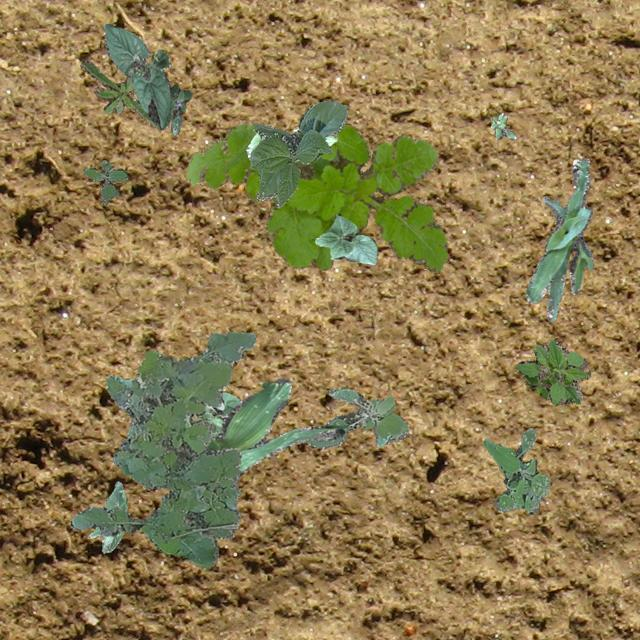crop: (205, 376, 348, 474), (524, 157, 592, 320), (248, 100, 346, 206), (102, 22, 172, 128), (314, 212, 376, 264), (246, 125, 336, 158), (88, 480, 126, 552), (197, 390, 240, 434)
weed: (70, 330, 254, 568), (185, 122, 446, 272), (306, 388, 408, 448), (482, 427, 548, 512), (78, 58, 156, 126), (514, 338, 590, 404), (82, 160, 126, 203), (170, 84, 190, 134), (490, 112, 516, 138)
